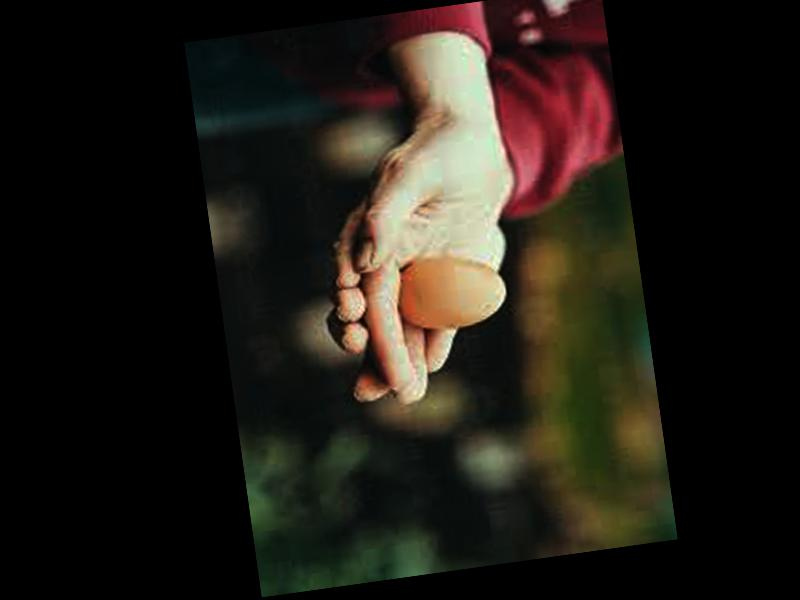Eggs: (395, 249, 509, 334)
